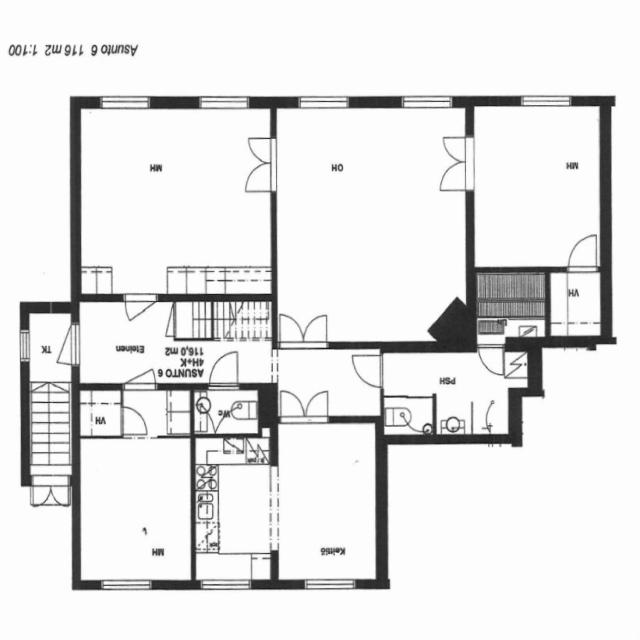door: (435, 130, 476, 202), (239, 130, 278, 203), (274, 308, 336, 349), (276, 384, 335, 422), (346, 346, 390, 392), (28, 470, 72, 513), (205, 346, 245, 390), (564, 229, 602, 274), (475, 330, 509, 380), (118, 290, 159, 324), (60, 317, 82, 373), (116, 367, 162, 393), (119, 402, 151, 438)
window: (191, 88, 256, 115), (394, 88, 458, 114), (292, 89, 355, 114), (94, 90, 156, 115), (94, 574, 158, 596), (516, 89, 578, 111), (298, 575, 362, 596), (196, 576, 258, 595), (62, 318, 82, 374), (16, 324, 33, 368)
zone: (271, 100, 472, 346), (78, 103, 276, 296), (468, 99, 605, 271), (75, 435, 195, 588), (274, 418, 381, 583), (73, 299, 261, 387), (376, 348, 525, 439), (192, 434, 280, 586), (474, 270, 550, 337), (546, 270, 606, 340), (192, 386, 264, 435), (76, 385, 122, 438)
